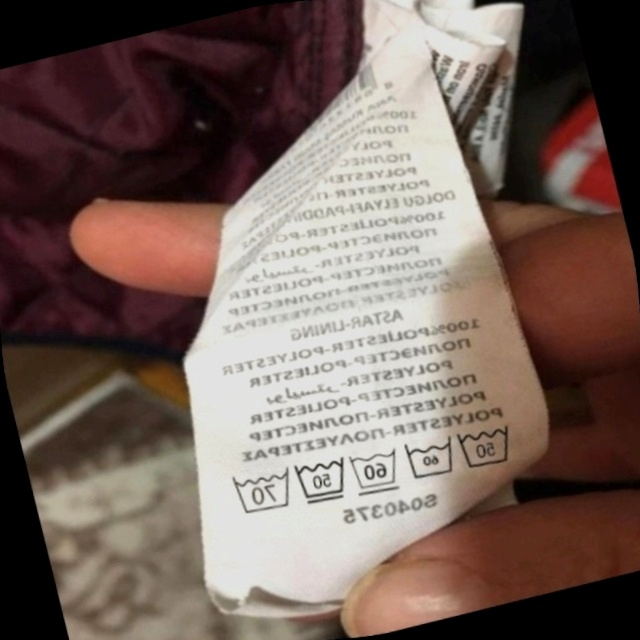50C: (441, 405, 530, 486), (280, 442, 362, 520)
60C: (334, 433, 413, 508), (390, 422, 468, 495)
70C: (215, 453, 304, 530)
